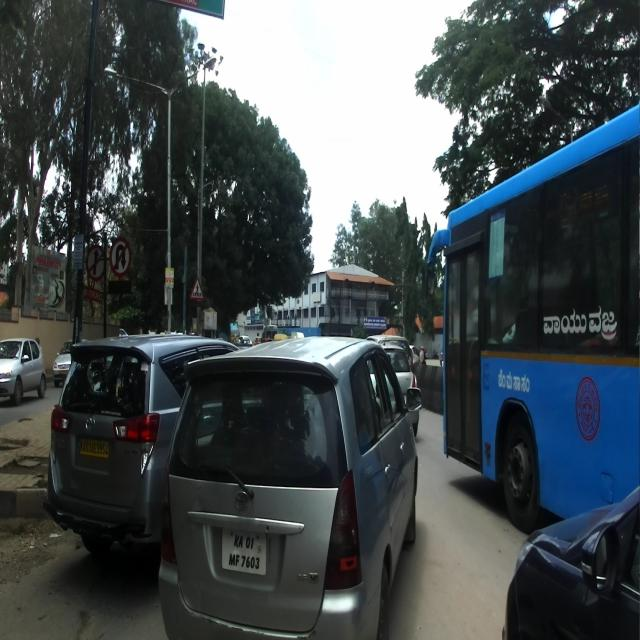bus: (426, 102, 640, 534)
car: (158, 335, 422, 639), (42, 326, 240, 559), (502, 485, 638, 639)
